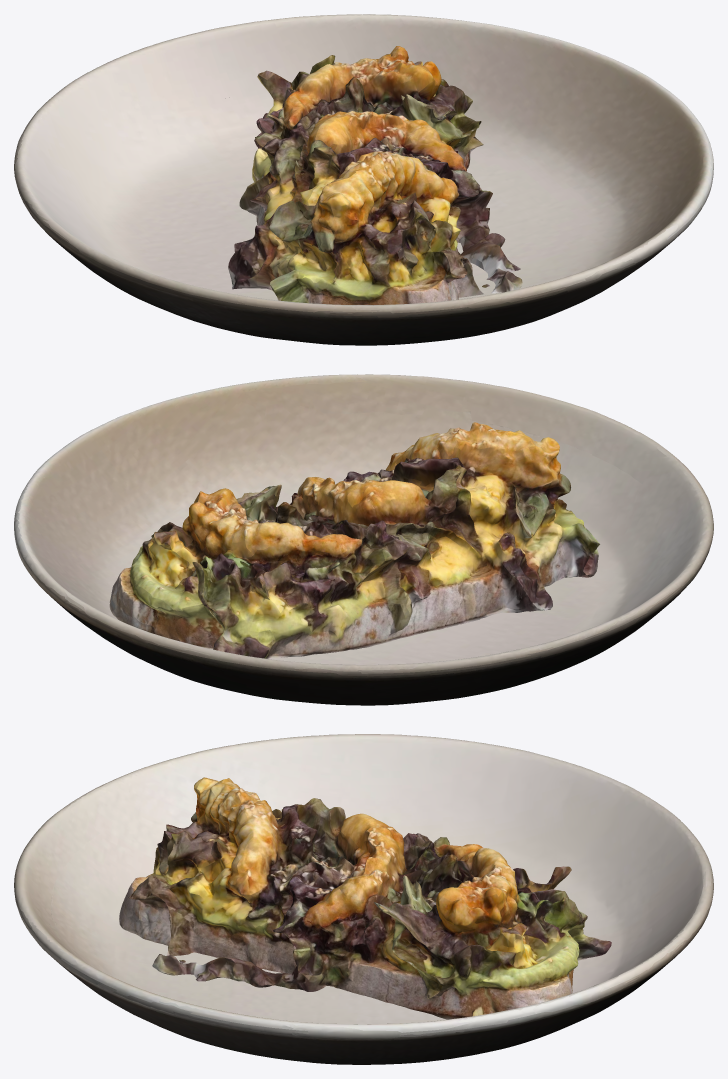
Rendered from bruschtawithshirimp.glb.
3 renders of one model, top to bottom at view 1: azimuth 30°, elevation 25°; view 2: azimuth 150°, elevation 25°; view 3: azimuth 270°, elevation 25°, orthographic.
Parts seen in each view (by area): view 1: /Root/Scenes/Scene/Object_37/Object_38/Object_39/Submesh_0, /Root/Scenes/Scene/Object_37/Object_42/Submesh_0; view 2: /Root/Scenes/Scene/Object_37/Object_38/Object_39/Submesh_0, /Root/Scenes/Scene/Object_37/Object_42/Submesh_0; view 3: /Root/Scenes/Scene/Object_37/Object_38/Object_39/Submesh_0, /Root/Scenes/Scene/Object_37/Object_42/Submesh_0.
Part boxes in pixels (bbox=[...]): /Root/Scenes/Scene/Object_37/Object_38/Object_39/Submesh_0: bbox=[14, 14, 713, 345]; /Root/Scenes/Scene/Object_37/Object_42/Submesh_0: bbox=[228, 46, 522, 304]; /Root/Scenes/Scene/Object_37/Object_38/Object_39/Submesh_0: bbox=[14, 374, 713, 705]; /Root/Scenes/Scene/Object_37/Object_42/Submesh_0: bbox=[109, 422, 599, 659]; /Root/Scenes/Scene/Object_37/Object_38/Object_39/Submesh_0: bbox=[14, 734, 713, 1064]; /Root/Scenes/Scene/Object_37/Object_42/Submesh_0: bbox=[119, 777, 611, 1019].
Bounding box in the file's own units: 0.3501 × 0.0847 × 0.3501.
2 materials, 2 textured.
